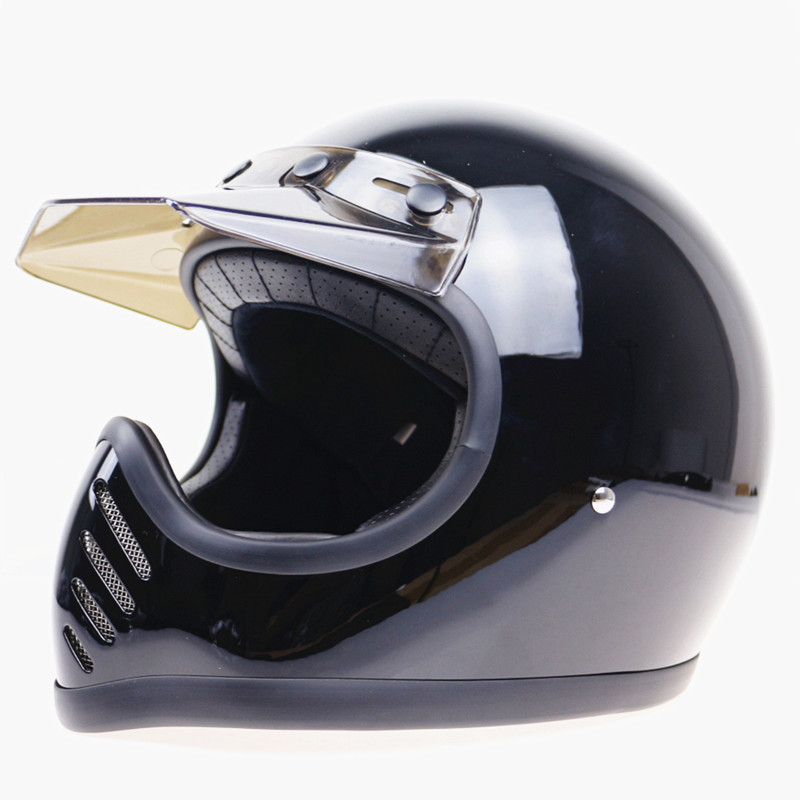with_helmet: (11, 102, 777, 731)
